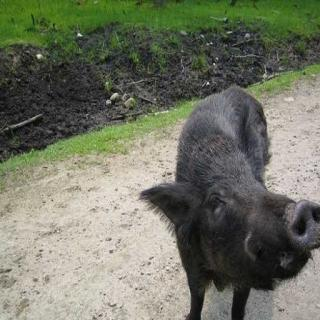Pig: (160, 76, 320, 320)
